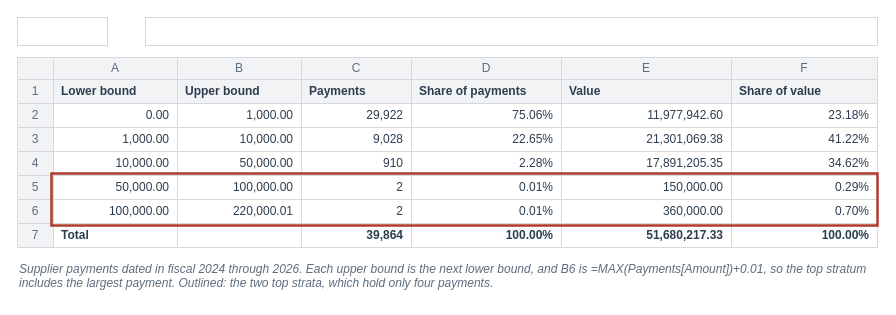
Image size: 896x315. Some labels were removed from this diagram. Each missing label, with the box of its shape:
=COUNTIFS(Payments[Amount],">="&A2,Payments[Amount],"<"&B2): (144, 16, 878, 46)
C2: (16, 16, 108, 46)
fx: (110, 16, 142, 46)
